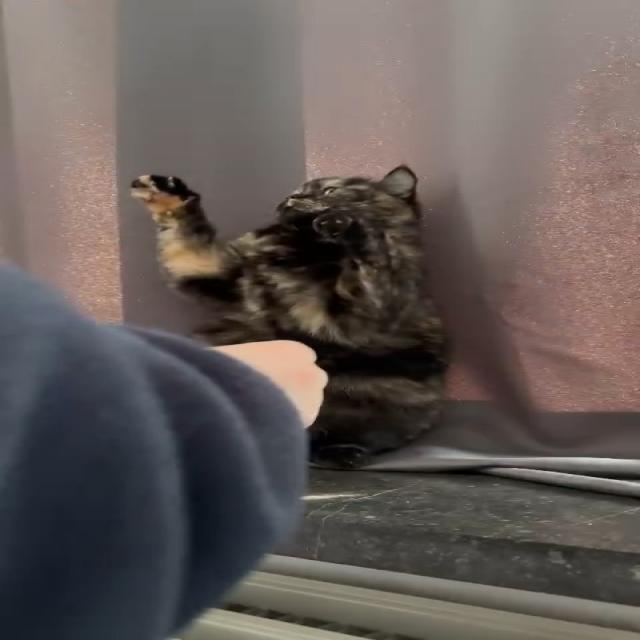authorized: (128, 163, 451, 468)
